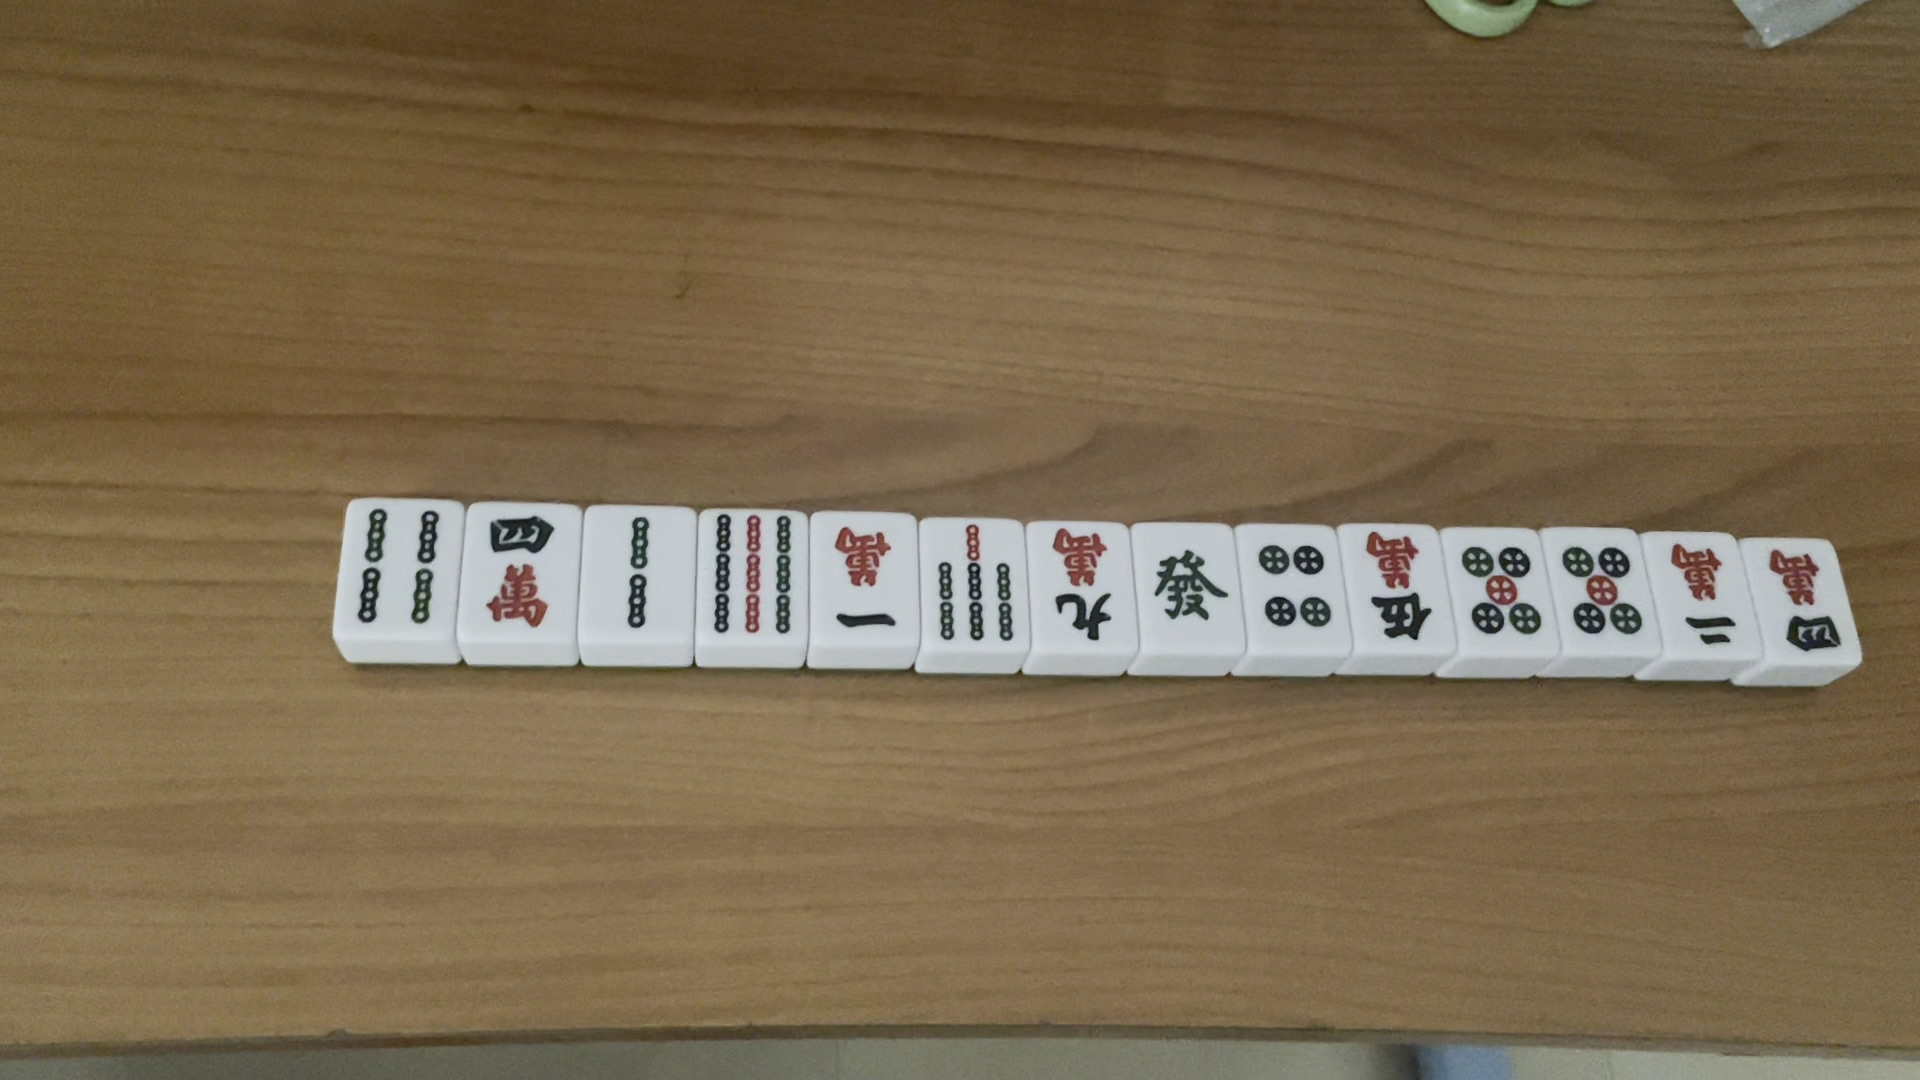b-2: (600, 512, 671, 632)
b-4: (347, 504, 451, 626)
b-7: (926, 522, 1021, 644)
b-9: (703, 514, 796, 640)
c-1: (828, 525, 907, 637)
c-2: (1664, 535, 1742, 653)
c-4: (477, 514, 560, 636), (1767, 541, 1847, 653)
c-5: (1358, 527, 1436, 644)
c-9: (1042, 522, 1122, 647)
d-4: (1251, 541, 1333, 644)
d-5: (1455, 541, 1542, 644), (1557, 541, 1642, 644)
honors-green: (1147, 543, 1232, 633)
